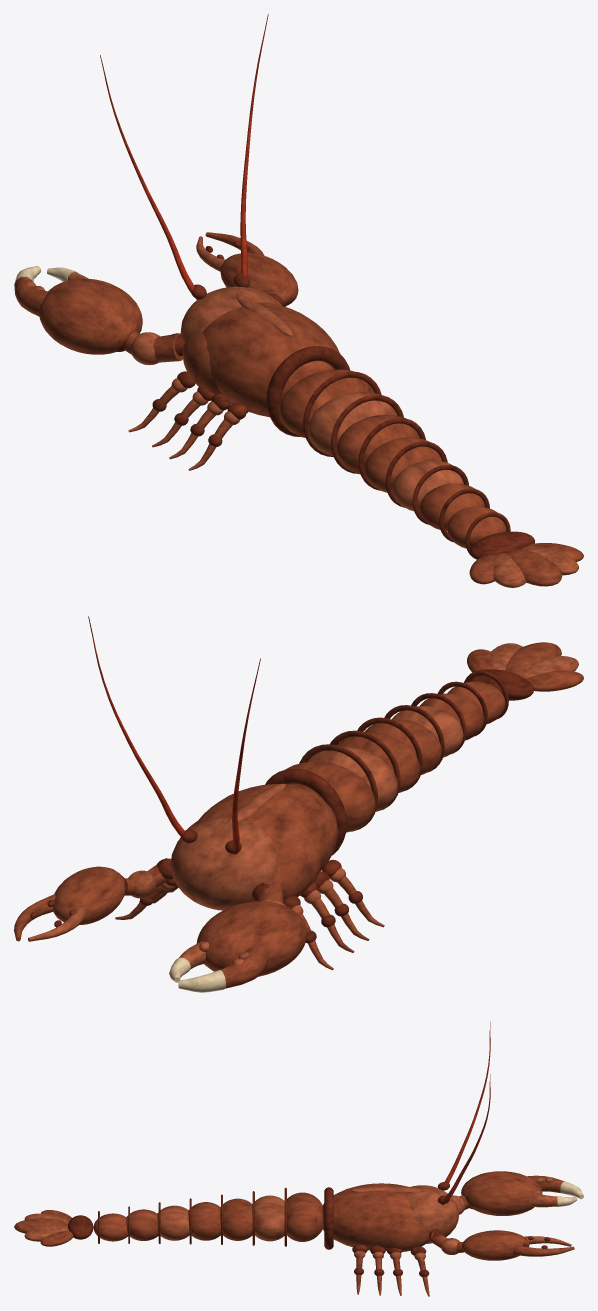
3 views of the same model, one above another, from view 1: azimuth 30°, elevation 25°; view 2: azimuth 150°, elevation 25°; view 3: azimuth 270°, elevation 25° (orthographic). The views are drawn at different scales.
Parts seen in each view (by area): view 1: abdomen_chain, cephalothorax, crusher_chela, tail_fan, walking_leg_array, cutter_chela, long_antenna; view 2: cephalothorax, abdomen_chain, crusher_chela, cutter_chela, tail_fan, walking_leg_array, long_antenna; view 3: abdomen_chain, cephalothorax, crusher_chela, cutter_chela, tail_fan, walking_leg_array, long_antenna.
Part boxes in pixels (x1,y1,x2,y2): abdomen_chain: [279, 369, 510, 555]; cephalothorax: [180, 286, 349, 437]; crusher_chela: [14, 266, 184, 365]; tail_fan: [469, 531, 583, 587]; walking_leg_array: [128, 371, 248, 470]; cutter_chela: [196, 232, 298, 306]; long_antenna: [100, 14, 268, 299]; cephalothorax: [171, 768, 346, 910]; abdomen_chain: [285, 671, 508, 832]; crusher_chela: [169, 881, 307, 992]; cutter_chela: [14, 858, 173, 941]; tail_fan: [467, 642, 583, 700]; walking_leg_array: [115, 859, 384, 970]; long_antenna: [88, 616, 260, 854]; abdomen_chain: [93, 1187, 323, 1246]; cephalothorax: [322, 1183, 458, 1251]; crusher_chela: [451, 1171, 583, 1215]; cutter_chela: [429, 1229, 574, 1260]; tail_fan: [14, 1210, 93, 1246]; walking_leg_array: [352, 1244, 429, 1296]; long_antenna: [437, 1021, 490, 1204].
Size of the model in its own units: 3.77 by 5.13 by 12.26.
Materials: 21 (21 with a texture image).
